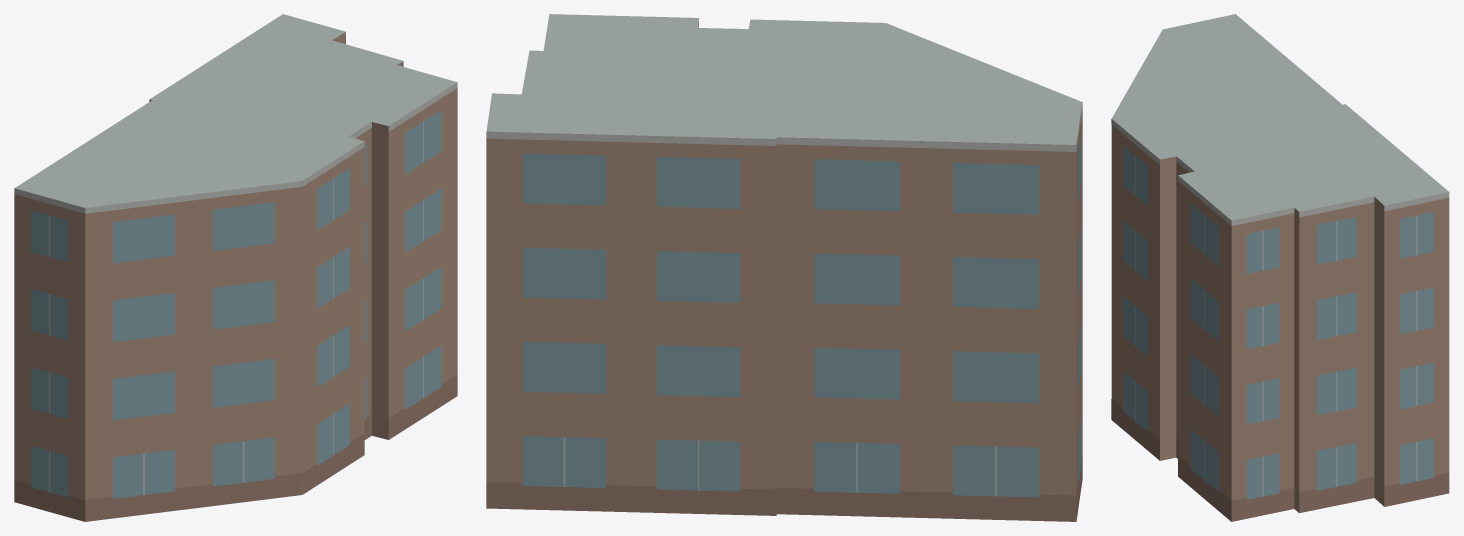
Rendered from survey-upis-32675950.glb.
3 views of the same model, side by side, from view 1: azimuth 30°, elevation 25°; view 2: azimuth 150°, elevation 25°; view 3: azimuth 270°, elevation 25° (orthographic). The views are drawn at different scales.
Visible parts, largest first — view 1: survey-upis-32675950.tmp; view 2: survey-upis-32675950.tmp; view 3: survey-upis-32675950.tmp.
Boxes of the visible parts, x1,y1,x2,y2 form: survey-upis-32675950.tmp: (14, 14, 457, 521); survey-upis-32675950.tmp: (486, 14, 1082, 521); survey-upis-32675950.tmp: (1111, 14, 1449, 521).
Bounding box in the file's own units: 19.42 × 13.2 × 13.43.
